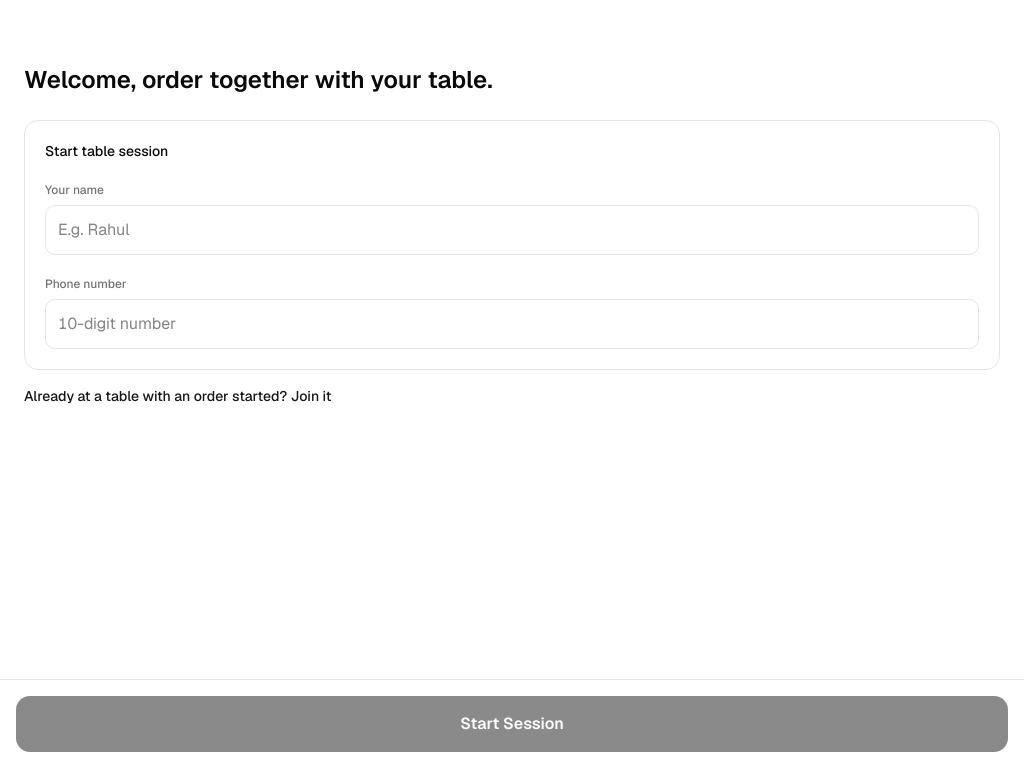
Scenario: WelcomeFlow › start flow lands on the PIN screen with the shareable PIN, no ceremony
Type "Rahul" into the field labelled "Your name".
click(512, 230); type("Rahul")  # box [45,205,979,255]
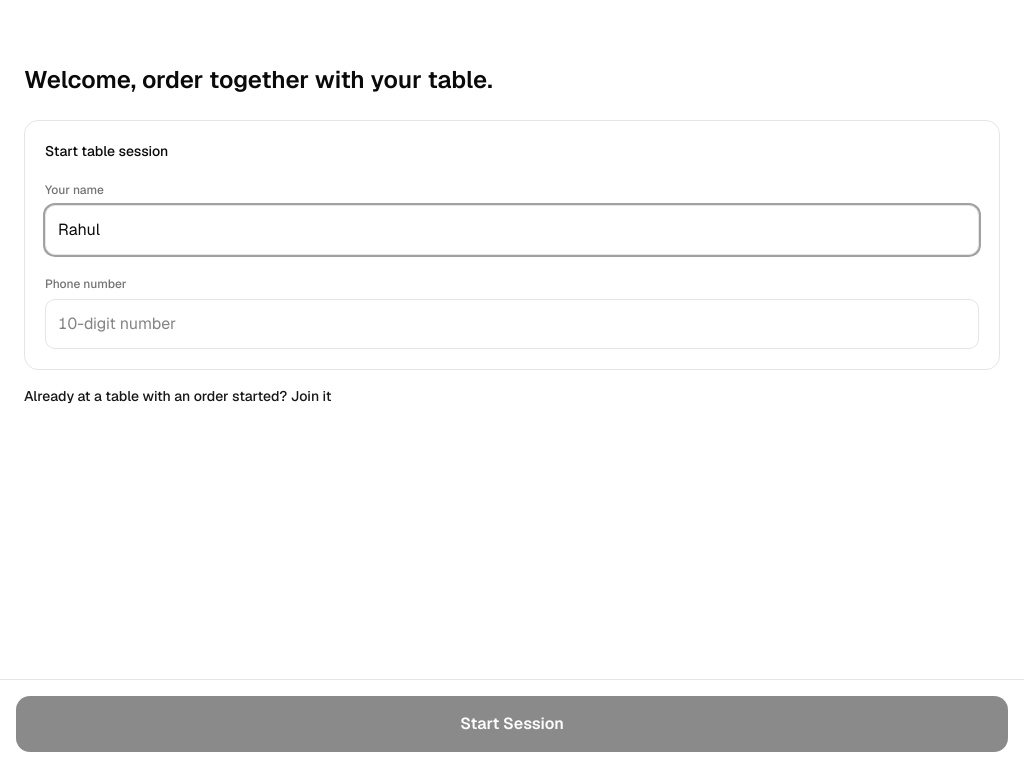
Type "9876543210" into the field labelled "Phone number".
click(512, 324); type("9876543210")  # box [45,299,979,349]
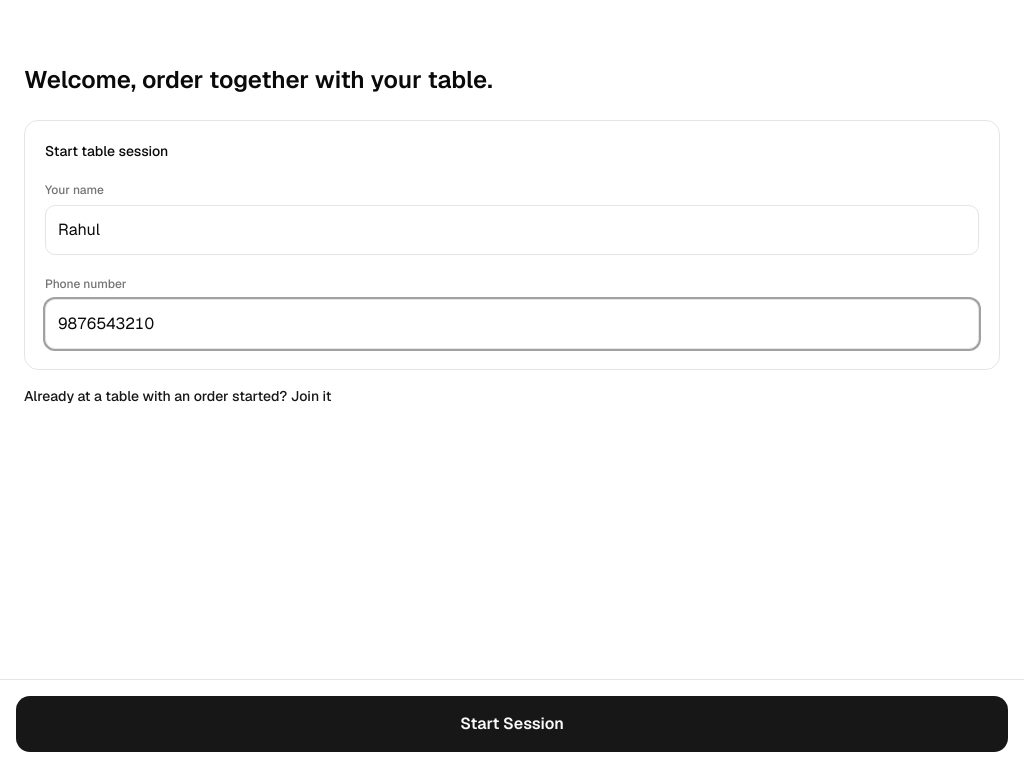
Click the button with test id "qr-start-submit".
click(512, 724)  # box [16,696,1008,752]
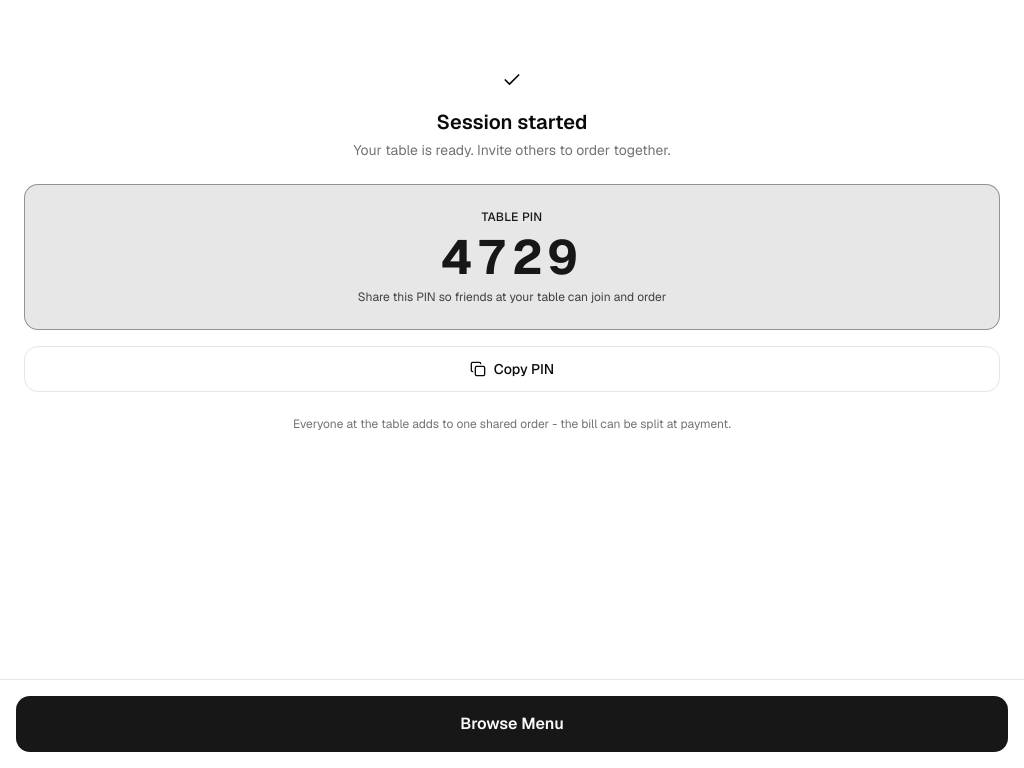
Check: the text with test id "qr-session-pin" reads "4729", box [441,226,583,288]
Check: the element with test id "qr-session-started" is shown, box [24,64,1000,432]
